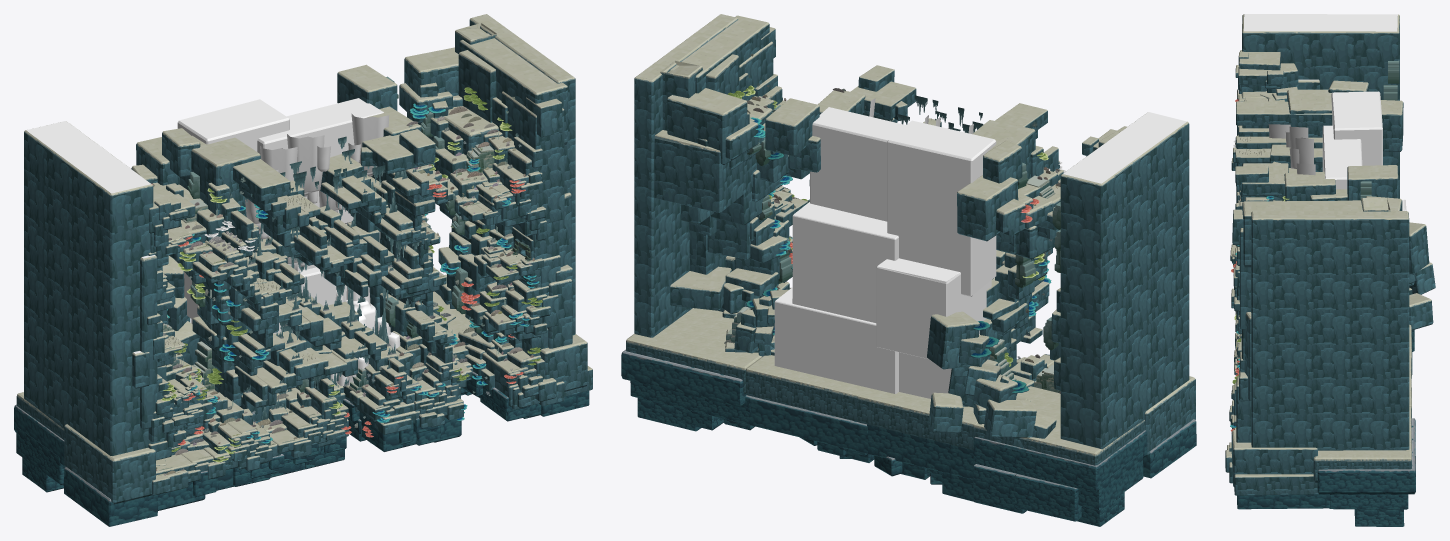
3 renders of one model, left to right at view 1: azimuth 30°, elevation 25°; view 2: azimuth 150°, elevation 25°; view 3: azimuth 270°, elevation 25°, orthographic. The views are drawn at different scales.
Size of the model in its own units: 149 by 103 by 63.04.
23 materials, 21 textured.
